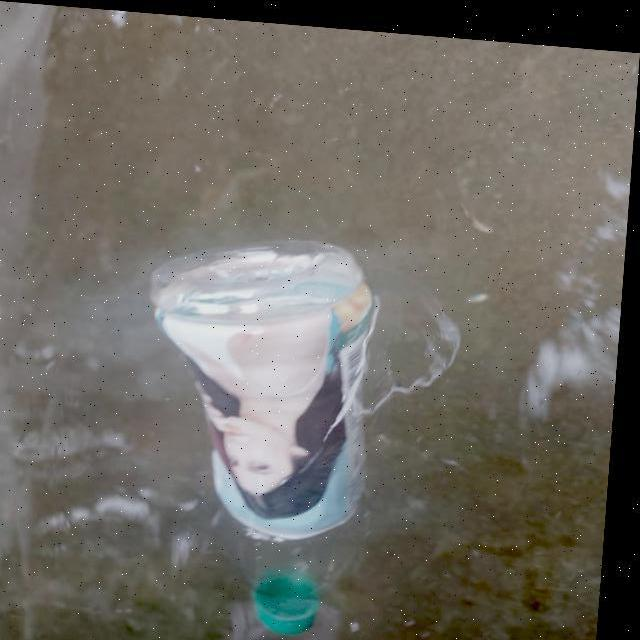Bottle: (130, 239, 392, 637)
